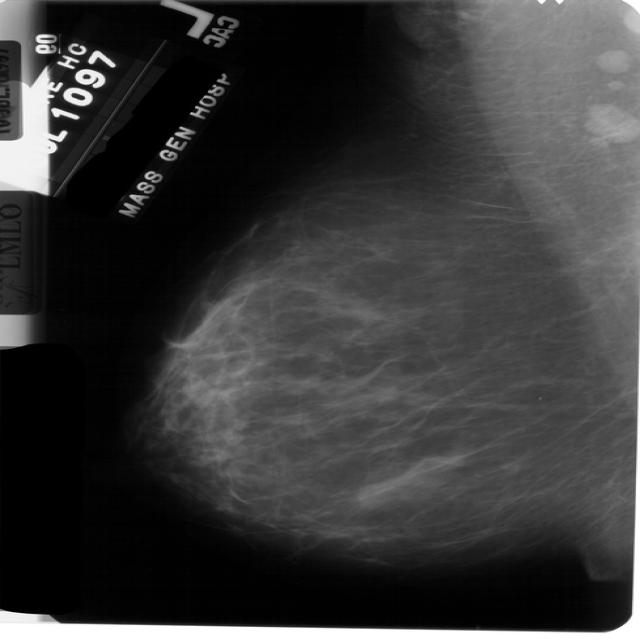tumour: (352, 454, 461, 506)
